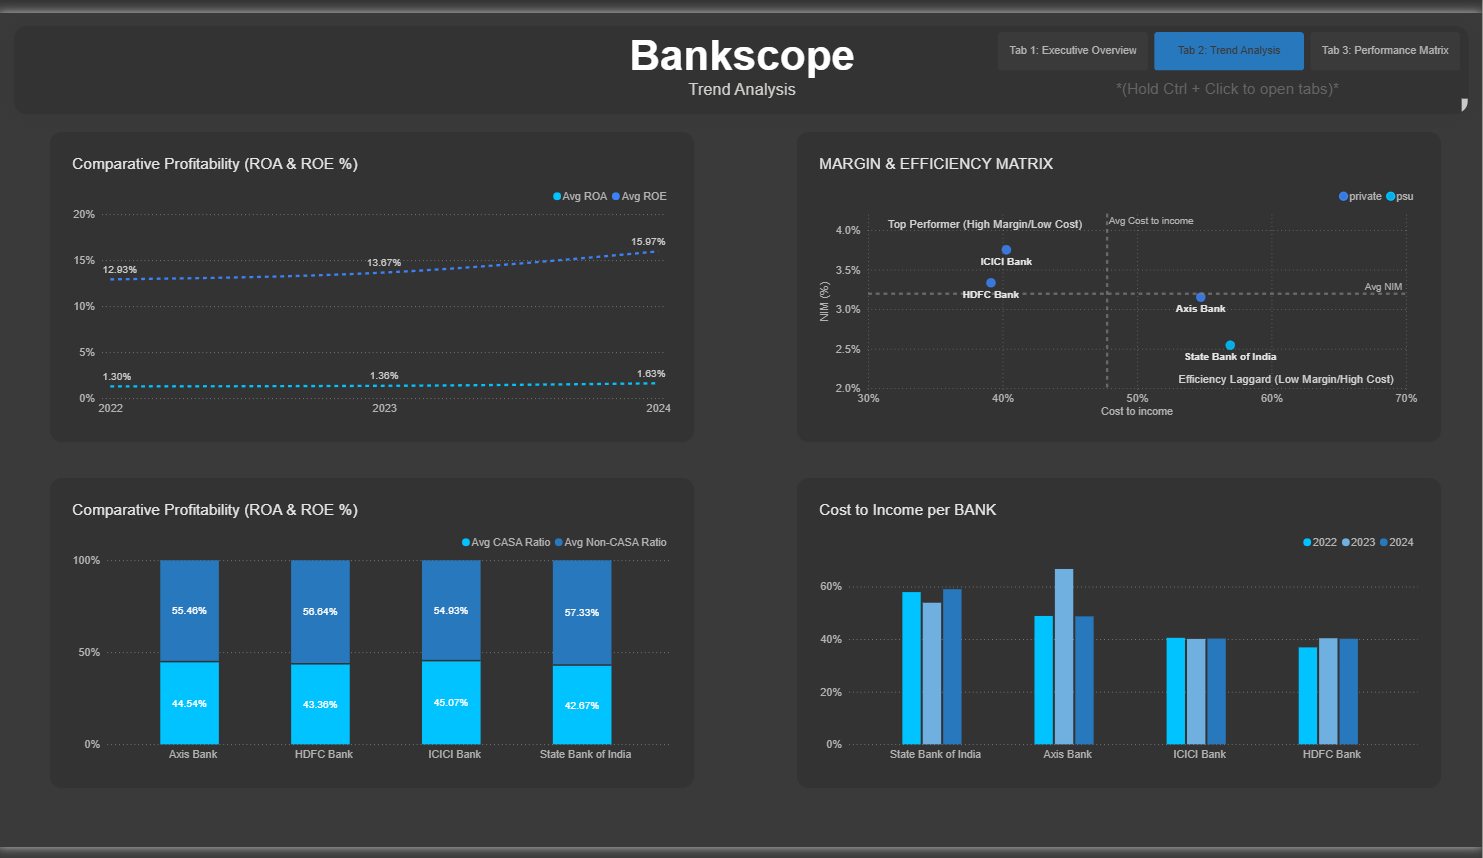

Layout of this report page (visuals, bound fields, positions):
{"tool":"powerbi","page":{"name":"Tab 2: Trend Analysis","canvas":[1920,1080],"ordinal":1},"visuals":[{"type":"textbox","title":"Bankscope","box":[20.1,17.4,1882.4,114],"z":0},{"type":"textbox","box":[67.3,154,833.2,401.1],"z":1000},{"type":"textbox","box":[67.3,601.6,833.2,401.1],"z":2000},{"type":"textbox","box":[1033.7,154,833.2,401.1],"z":3000},{"type":"textbox","box":[1033.7,601.6,833.2,401.1],"z":4000},{"type":"lineChart","title":"Comparative Profitability (ROA & ROE %)","fields":{"Category":["public vw_powerbi_ratios.fiscal_year"],"Y":["public vw_powerbi_ratios.Avg ROA","public vw_powerbi_ratios.AVG ROE"]},"box":[80.2,169.5,806,370],"z":5000},{"type":"scatterChart","title":"MARGIN & EFFICIENCY MATRIX","fields":{"Category":["public vw_powerbi_ratios.bank_name"],"Series":["public vw_powerbi_ratios.bank_type"],"X":["public vw_powerbi_ratios.AVG Cost to Income"],"Y":["public vw_powerbi_ratios.Avg NIM"]},"box":[1046.7,169.5,806,370],"z":6000},{"type":"textbox","title":"Top Performer (High Margin/Low Cost)","box":[1126.9,265.2,300.2,31.1],"z":7000},{"type":"textbox","title":"Efficiency Laggard (Low Margin/High Cost)","box":[1516.3,465.8,300.2,31.1],"z":8000},{"type":"hundredPercentStackedColumnChart","title":"Comparative Profitability (ROA & ROE %)","fields":{"Category":["public vw_powerbi_ratios.bank_name","public vw_powerbi_ratios.fiscal_year"],"Y":["public vw_powerbi_ratios.AVG CASA Ratio","public vw_powerbi_ratios.Avg Non-CASA Ratio"]},"box":[80.2,617.1,806,370],"z":9000},{"type":"clusteredColumnChart","title":"Cost to Income per BANK","fields":{"Category":["public vw_powerbi_ratios.bank_name"],"Series":["public vw_powerbi_ratios.fiscal_year"],"Y":["public vw_powerbi_ratios.AVG Cost to Income"]},"box":[1046.7,617.1,806,370],"z":10000},{"type":"pageNavigator","box":[1293.8,24.6,600,50],"z":11000},{"type":"textbox","title":"*(Hold Ctrl + Click to open tabs)*","box":[1446.5,86.7,295,28.5],"z":11001}]}

Visuals, with their boxes in screenshot pixels (x1, y1, x2, y2), scaled from the page's 1920x1080 canvas onto the 1483x858 screenshot:
"Bankscope" textbox: (16,14,1469,104)
textbox: (52,122,696,441)
textbox: (52,478,696,797)
textbox: (798,122,1442,441)
textbox: (798,478,1442,797)
"Comparative Profitability (ROA & ROE %)" lineChart: (62,135,684,429)
"MARGIN & EFFICIENCY MATRIX" scatterChart: (808,135,1431,429)
"Top Performer (High Margin/Low Cost)" textbox: (870,211,1102,235)
"Efficiency Laggard (Low Margin/High Cost)" textbox: (1171,370,1403,395)
"Comparative Profitability (ROA & ROE %)" hundredPercentStackedColumnChart: (62,490,684,784)
"Cost to Income per BANK" clusteredColumnChart: (808,490,1431,784)
pageNavigator: (999,20,1463,59)
"*(Hold Ctrl + Click to open tabs)*" textbox: (1117,69,1345,92)
